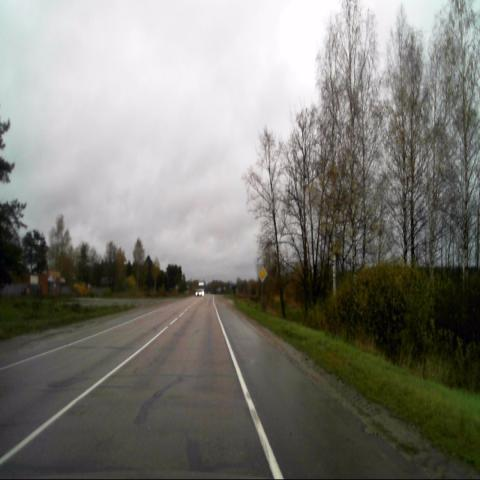2_1: (258, 265, 267, 283)
